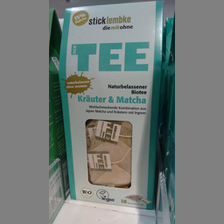tea: (57, 1, 163, 208)
